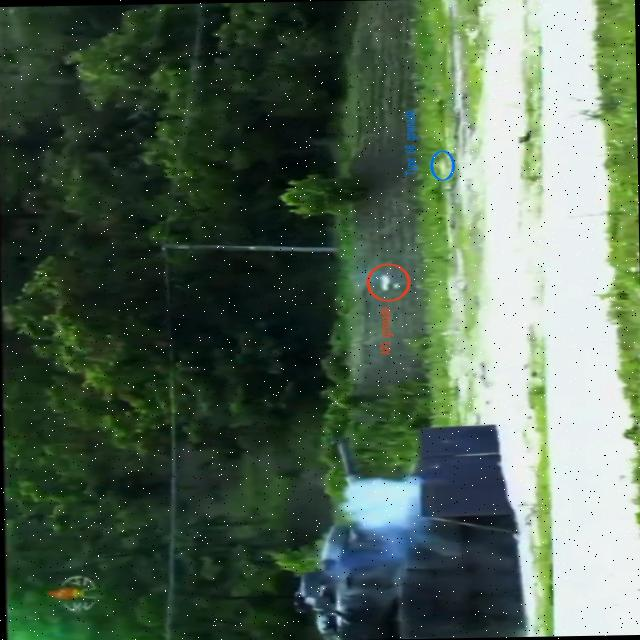north tank: (280, 407, 540, 640)
